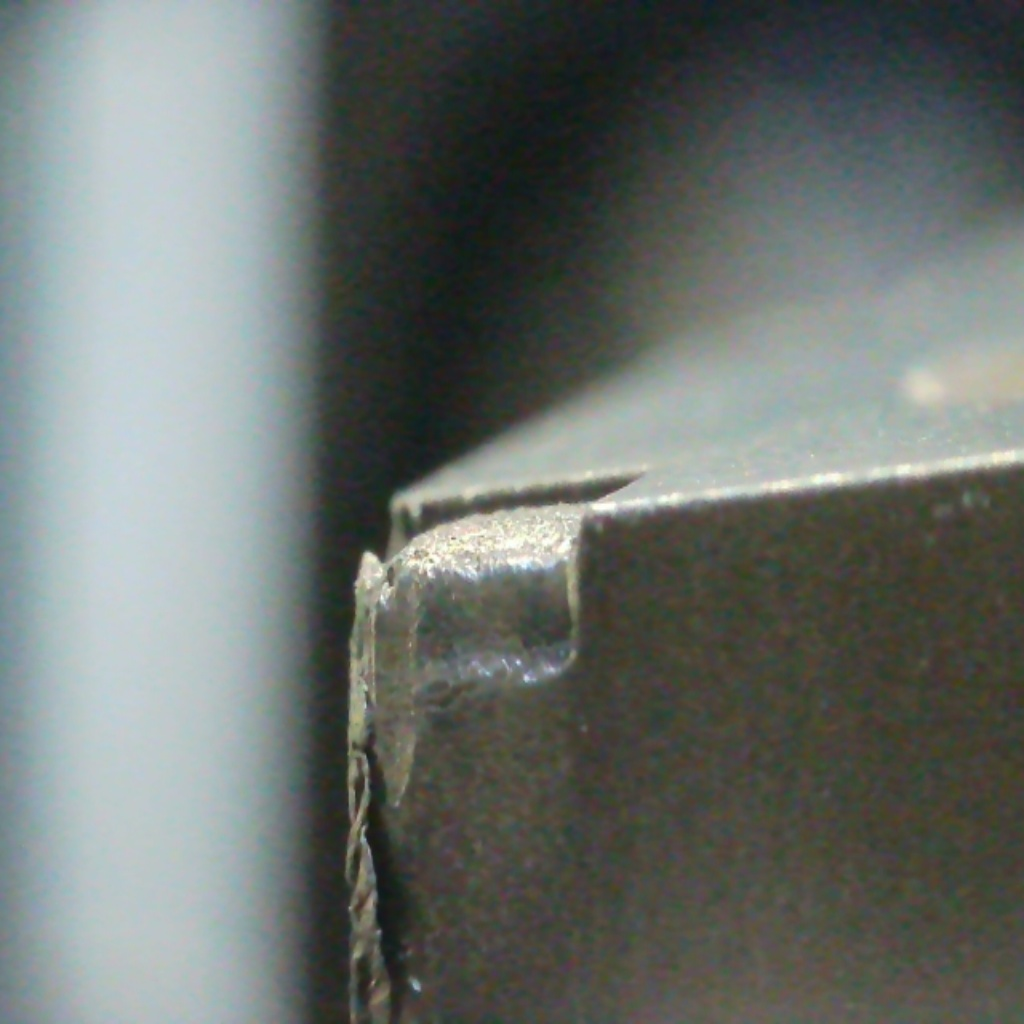flank_wear: (342, 658, 420, 1009)
